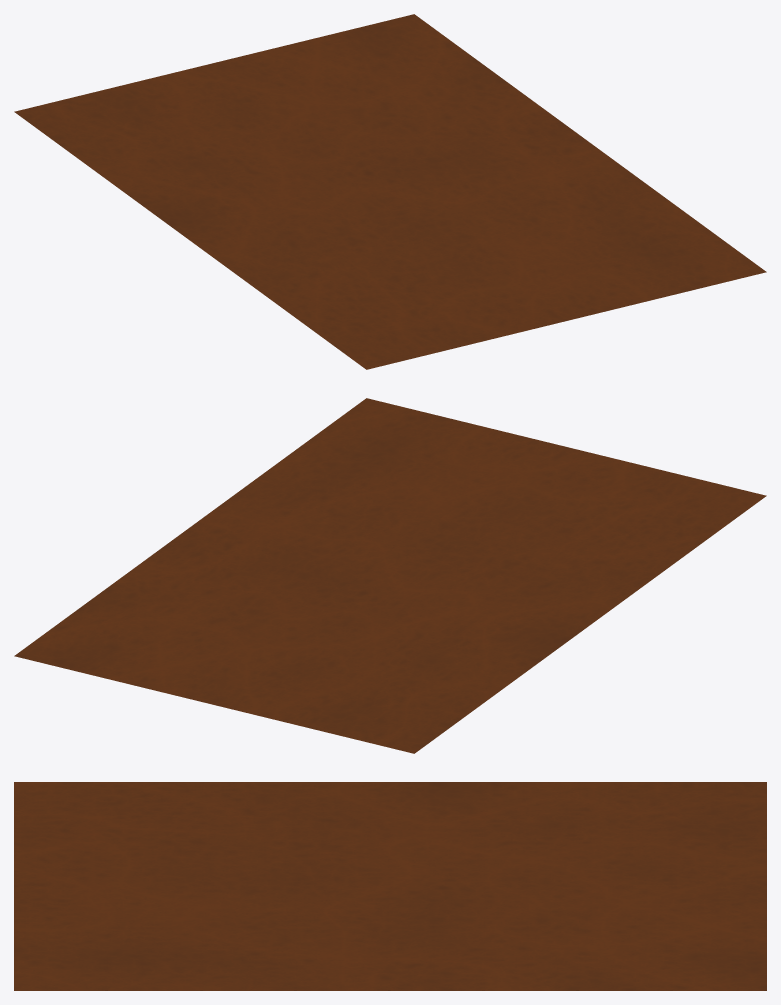
Rendered from Floor.fbx.
3 renders of one model, top to bottom at view 1: azimuth 30°, elevation 25°; view 2: azimuth 150°, elevation 25°; view 3: azimuth 270°, elevation 25°, orthographic. The views are drawn at different scales.
Parts seen in each view (by area): view 1: Plane; view 2: Plane; view 3: Plane.
Boxes of the visible parts, x1=… form: Plane: x1=14, y1=14, x2=766, y2=369; Plane: x1=14, y1=398, x2=766, y2=753; Plane: x1=14, y1=782, x2=766, y2=990.
Size of the model in its own units: 656 by 0.000163 by 1000.
